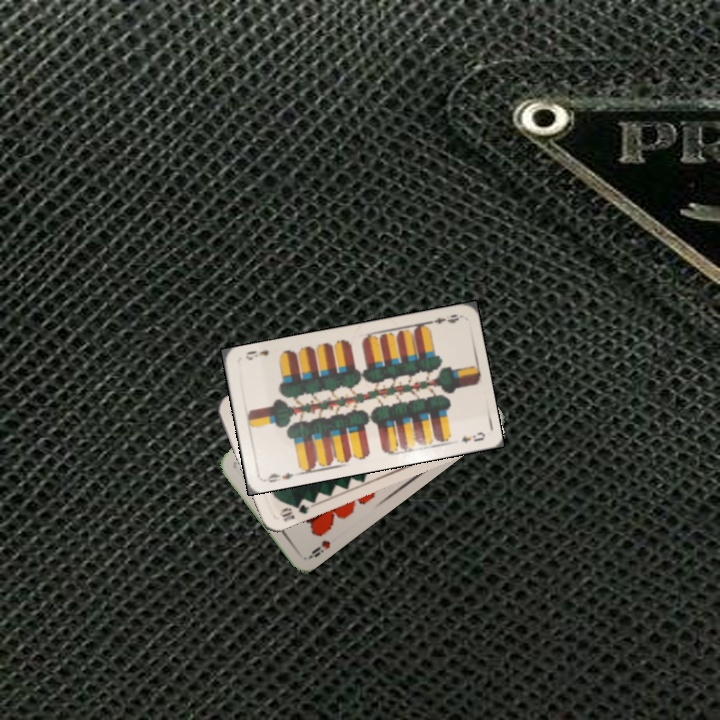E9: (422, 310, 463, 327), (261, 469, 296, 485)
G10: (275, 497, 312, 525)
H9: (305, 536, 333, 561)
